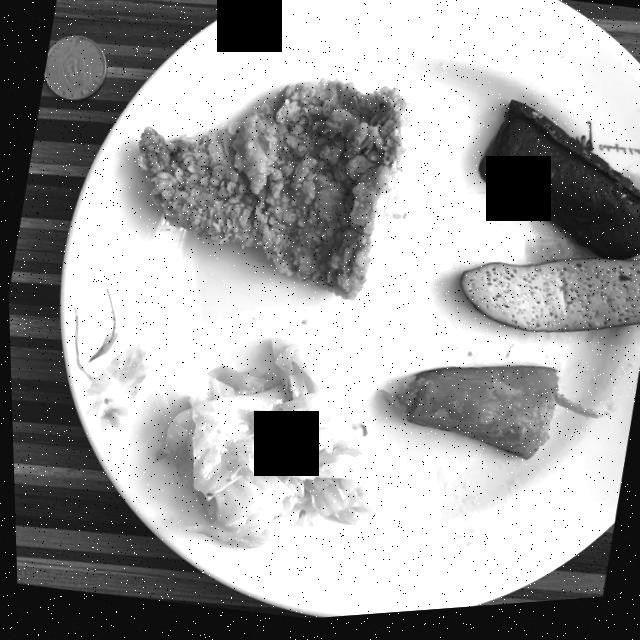cabbage: (154, 344, 381, 553)
coin: (43, 36, 106, 102)
firm tofu: (457, 109, 640, 341)
fried chicken cutlet: (136, 83, 409, 305)
pumpkin: (377, 374, 605, 467)
